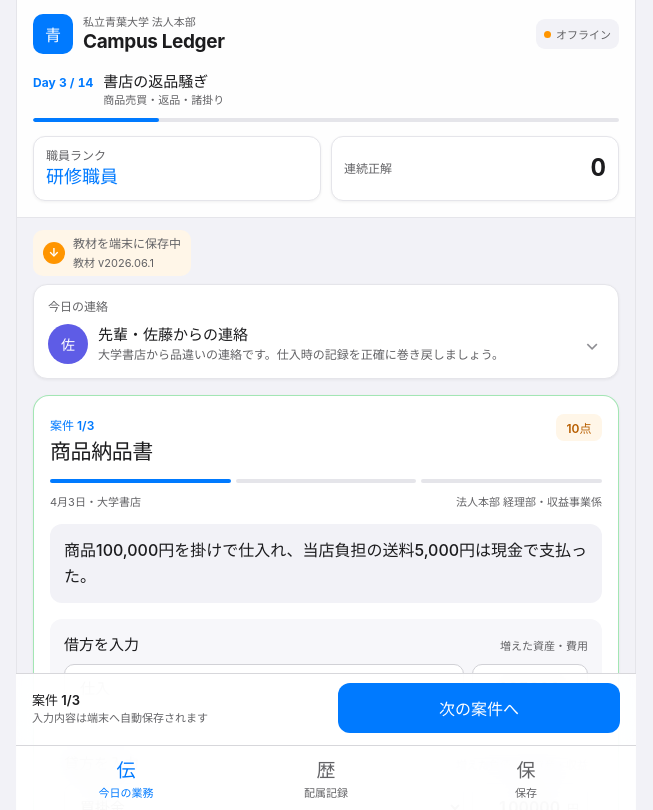
Campus Ledger app › announces a rank up after completing a threshold day
The width and height of the screenshot is (653, 810).
Click the button "次の案件へ" at (479,708), box [338,683,620,733]
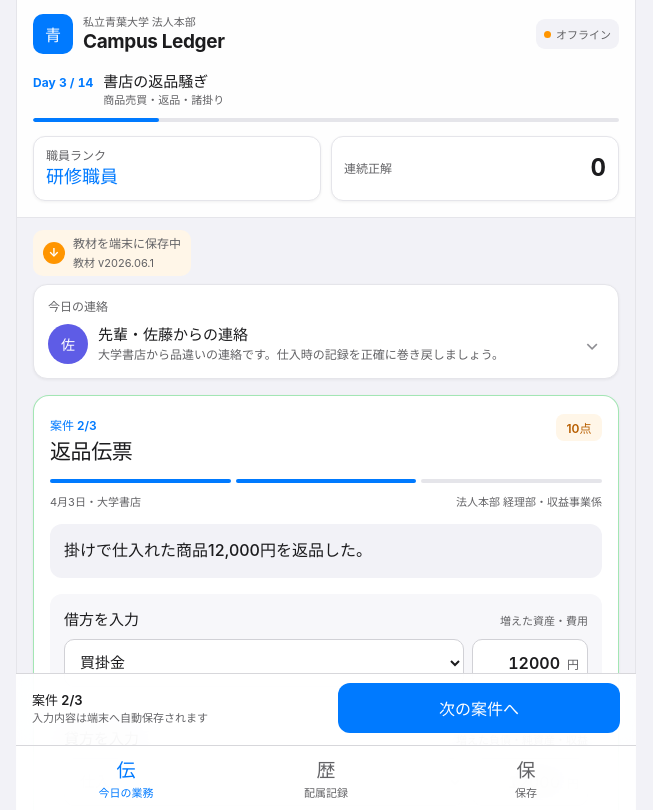
Click the button "次の案件へ" at (479,708), box [338,683,620,733]
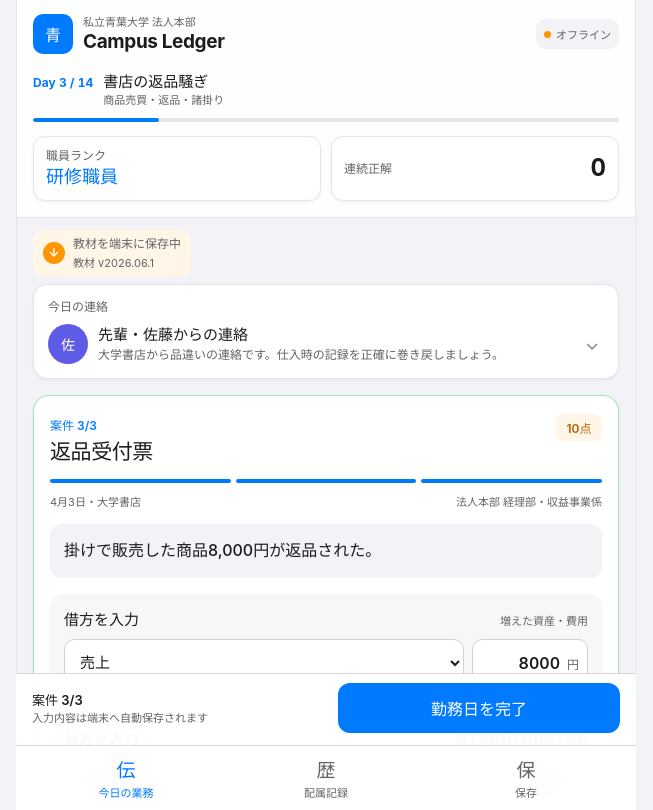
Click the button "勤務日を完了" at (479,708), box [338,683,620,733]
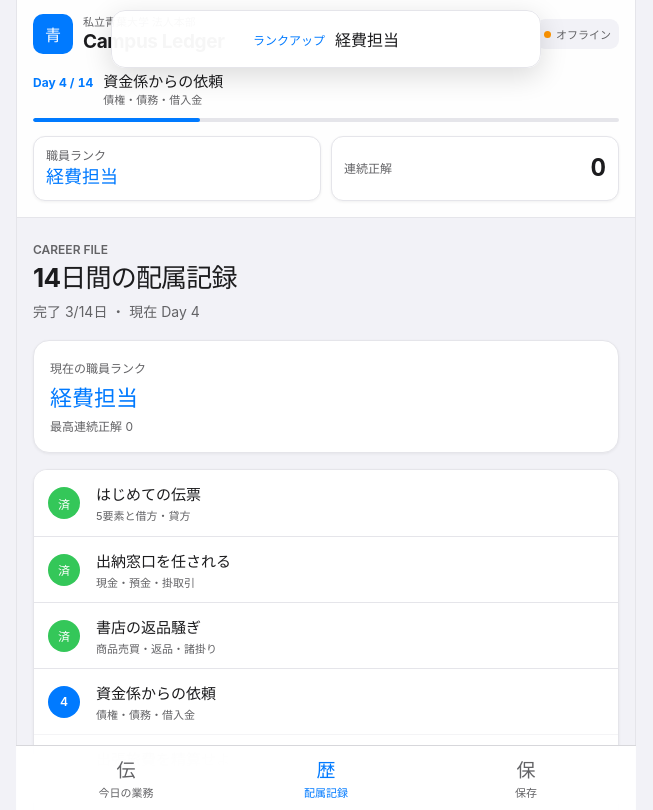
Result: the button "ランクアップ 経費担当" is shown at [111,10,541,68]
